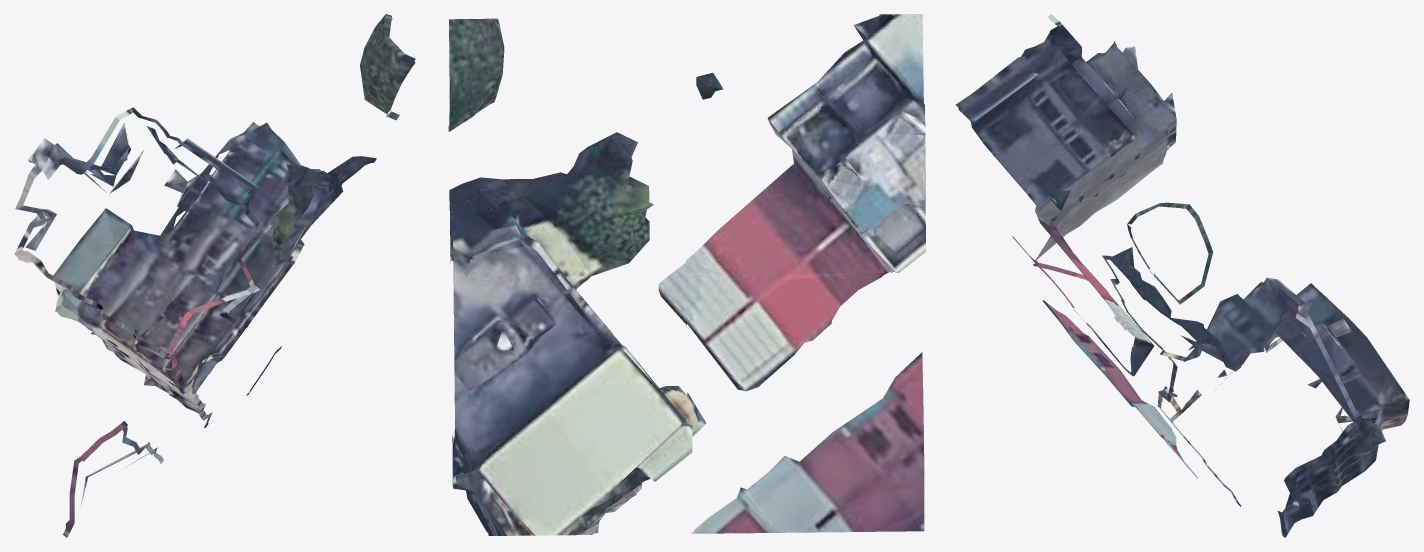
The picture shows the model from 3 angles, left to right: view 1: azimuth 30°, elevation 25°; view 2: azimuth 150°, elevation 25°; view 3: azimuth 270°, elevation 25°; orthographic projection. The views are drawn at different scales.
Size of the model in its own units: 39.06 by 40.05 by 40.36.
2 materials, 2 textured.
